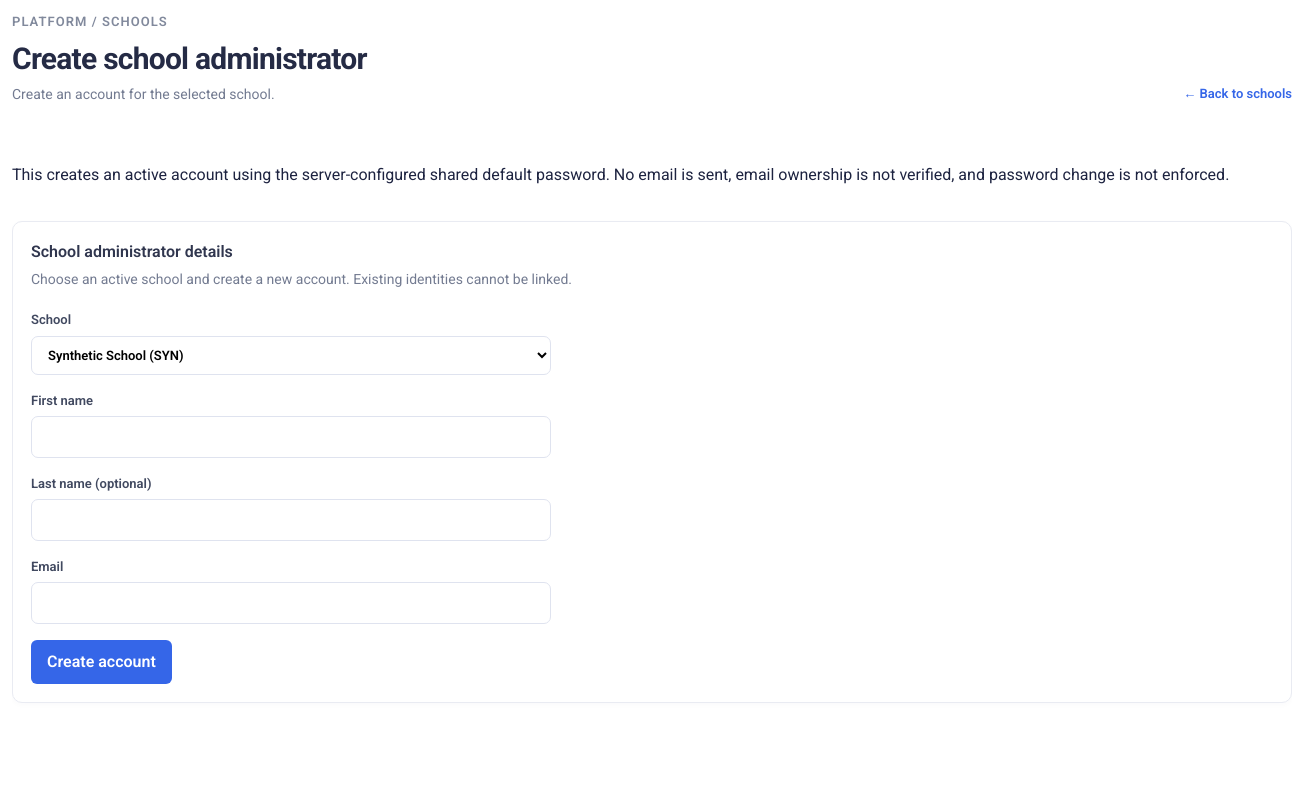
Scenario: school administrator creation › shows configuration errors instead of claiming an account was created
Type "Synthetic" into the field labelled "First name" at x=291, y=437, box [31,416,551,458]
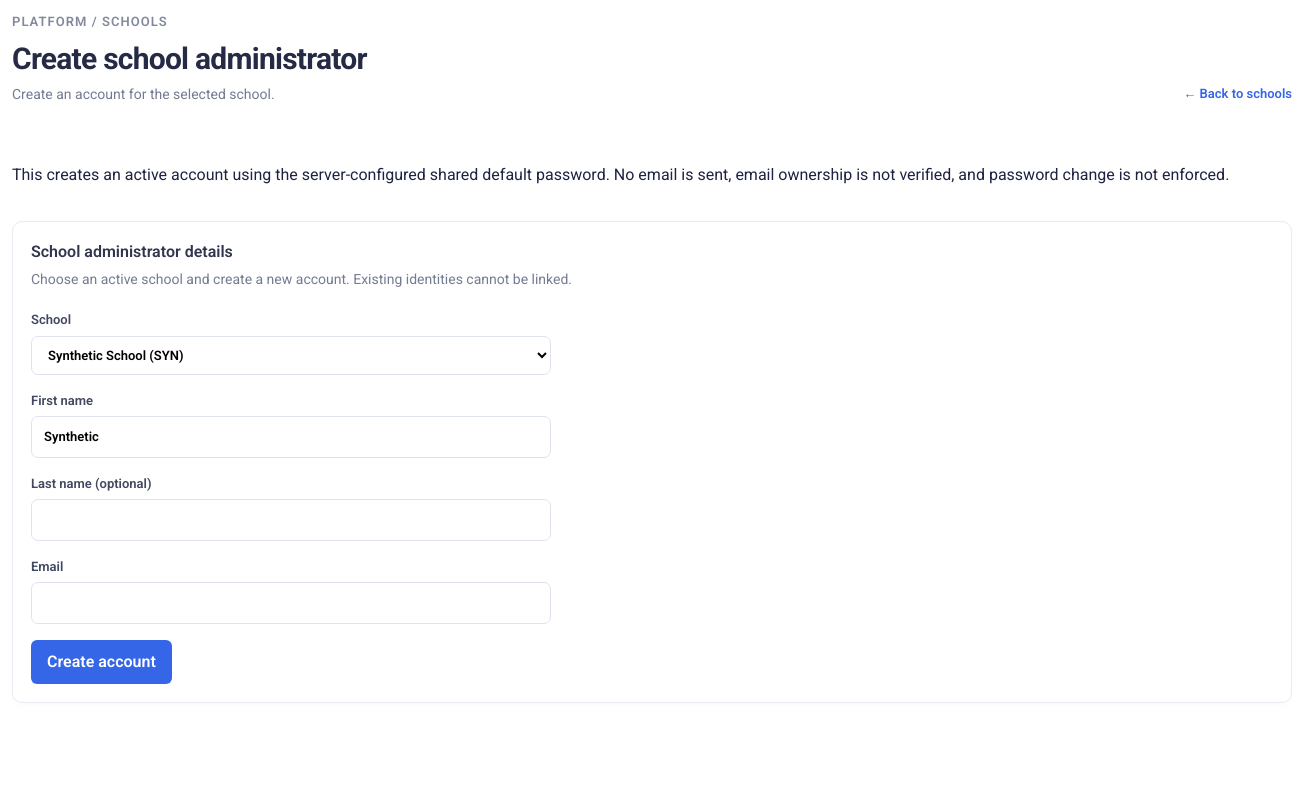
Type "admin@example.test" into the field labelled "Email" at x=291, y=603, box [31,582,551,624]
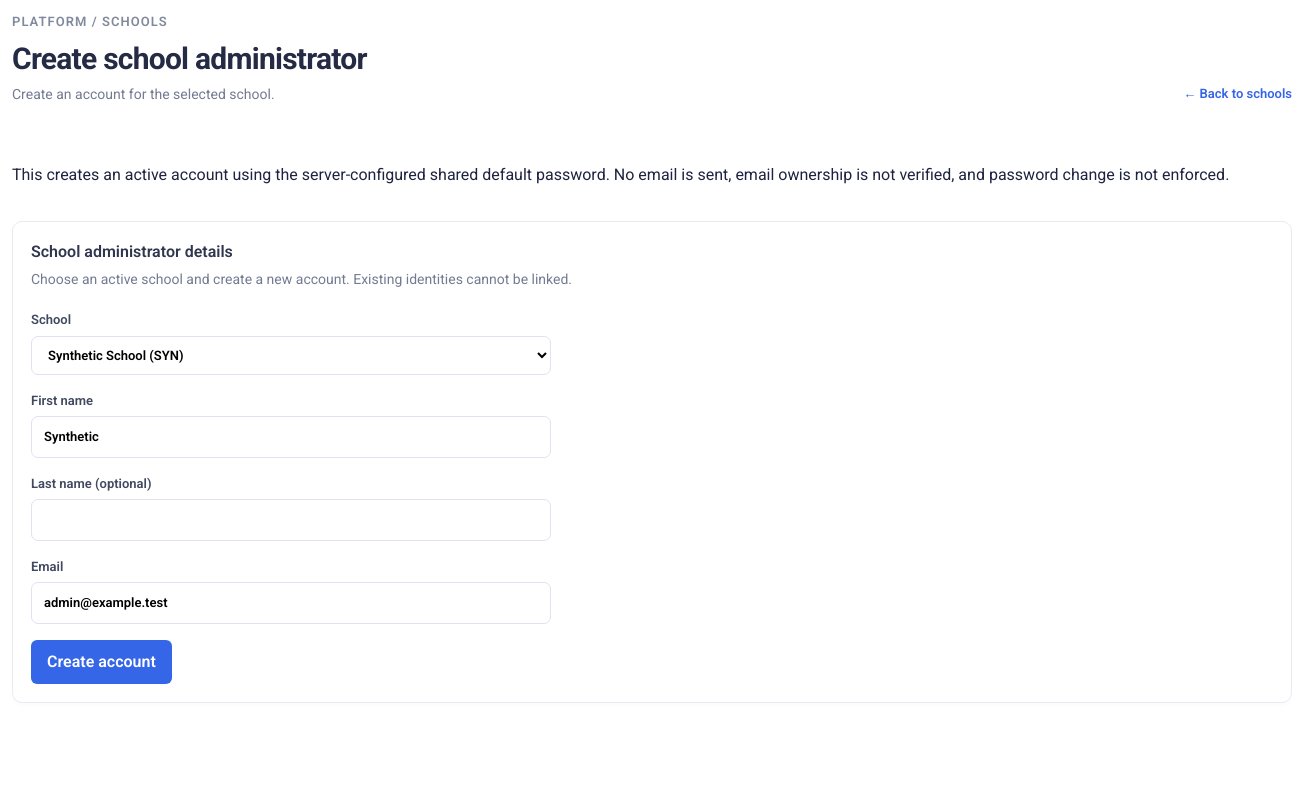
Click the button "Create account" at x=101, y=662, box [31,640,172,684]
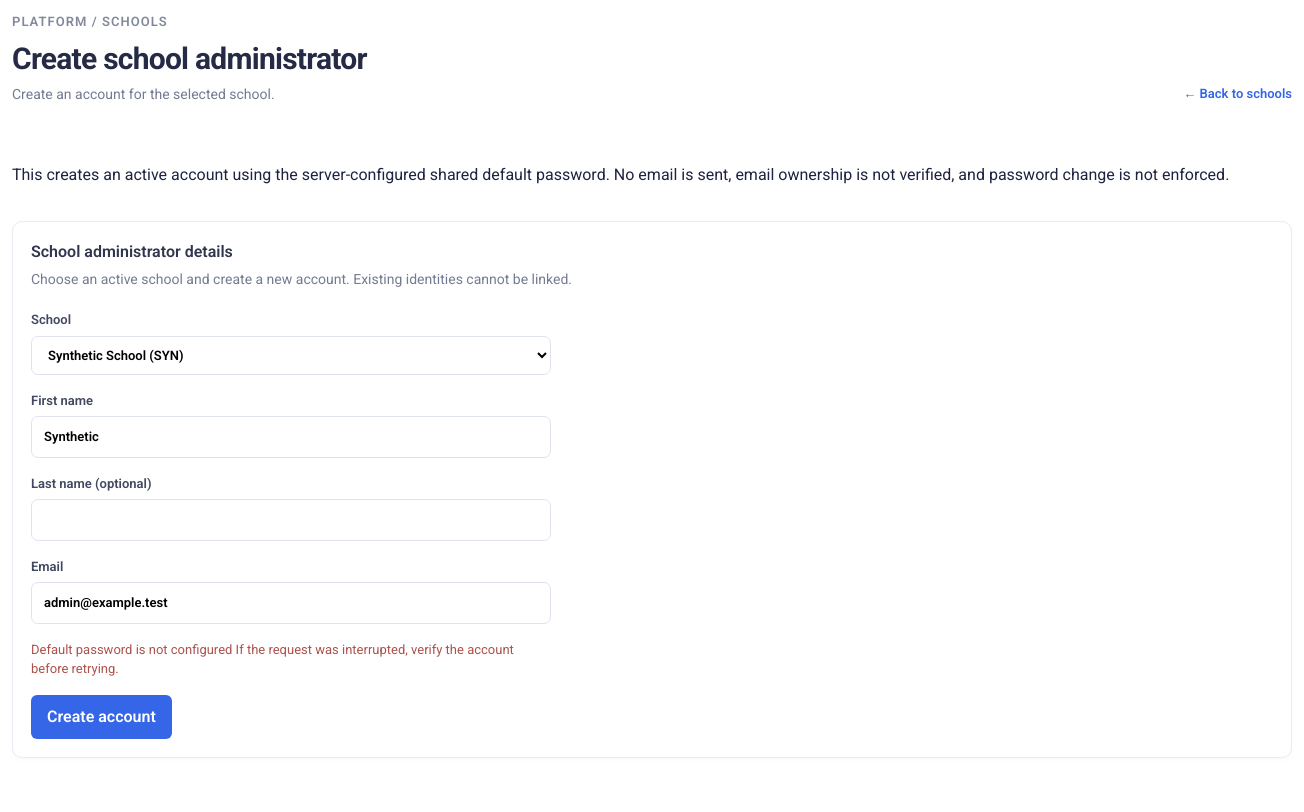
Now the message shows "Default password is not configured", box [31,642,514,676]
